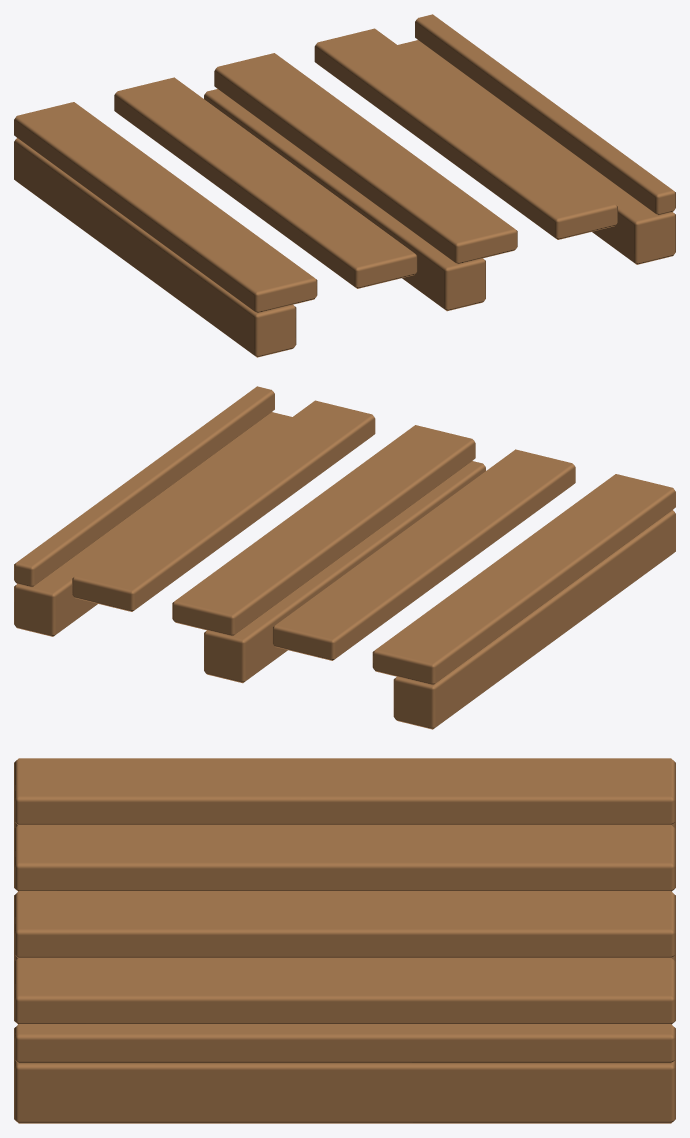
File: CM_Interior_Pallet.fbx
3 renders of one model, top to bottom at view 1: azimuth 30°, elevation 25°; view 2: azimuth 150°, elevation 25°; view 3: azimuth 270°, elevation 25°, orthographic. The views are drawn at different scales.
Parts seen in each view (by area): view 1: Body; view 2: Body; view 3: Body.
Part boxes in pixels (<box>): Body: <box>14,14,675,357</box>; Body: <box>14,386,675,729</box>; Body: <box>14,758,675,1123</box>.
Size of the model in its own units: 4 by 4 by 0.6.
Materials: 1 (1 with a texture image).
